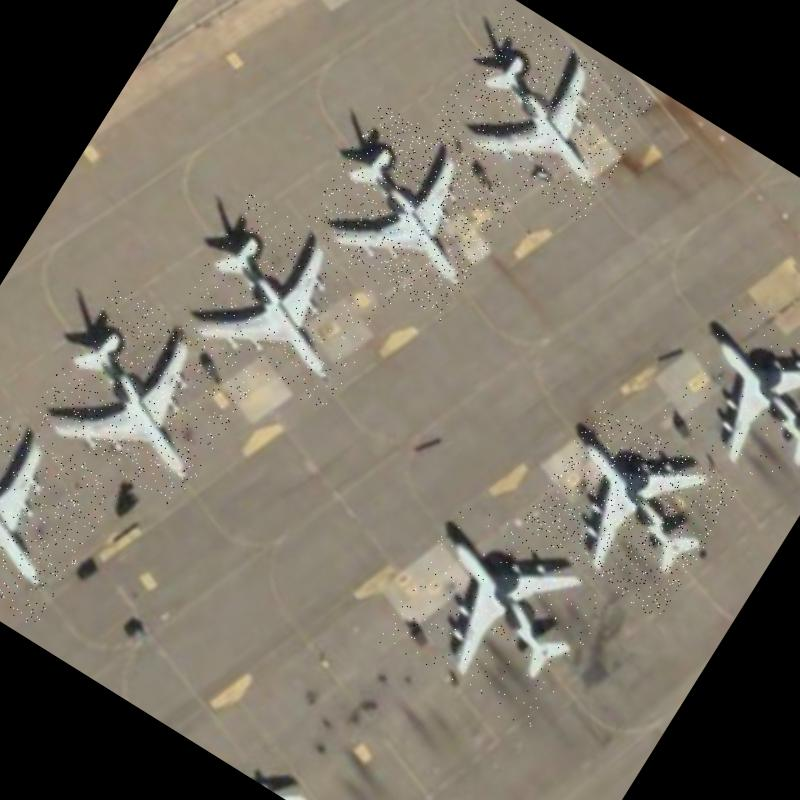A7: (376, 494, 620, 736), (29, 281, 262, 510), (171, 193, 402, 414), (298, 101, 525, 323), (516, 400, 741, 622), (430, 6, 657, 223), (654, 291, 800, 507), (0, 383, 123, 629)
